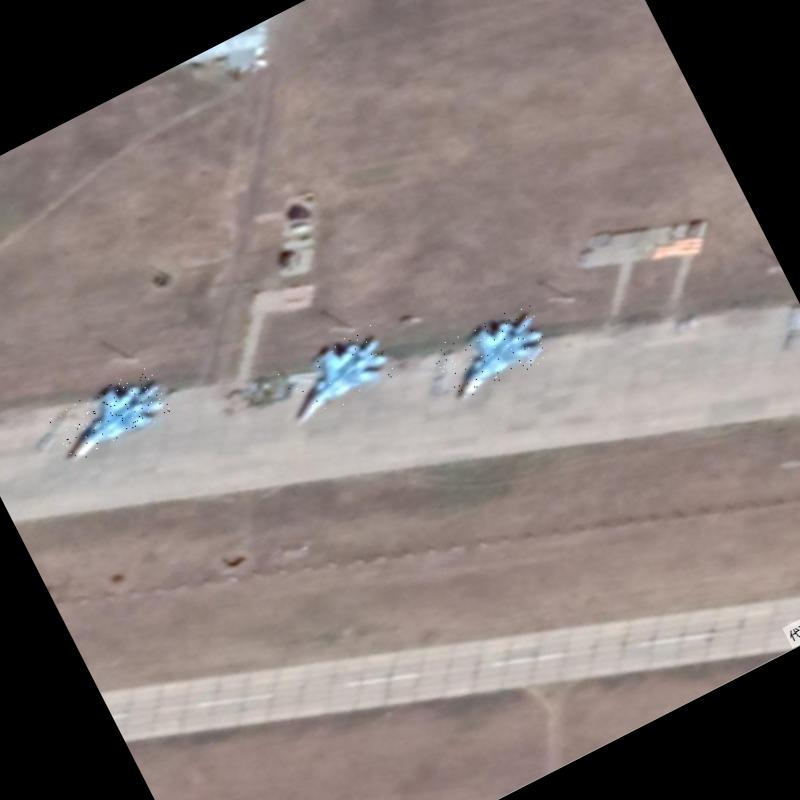A19: (267, 323, 398, 429), (429, 300, 555, 404), (47, 364, 173, 464)
